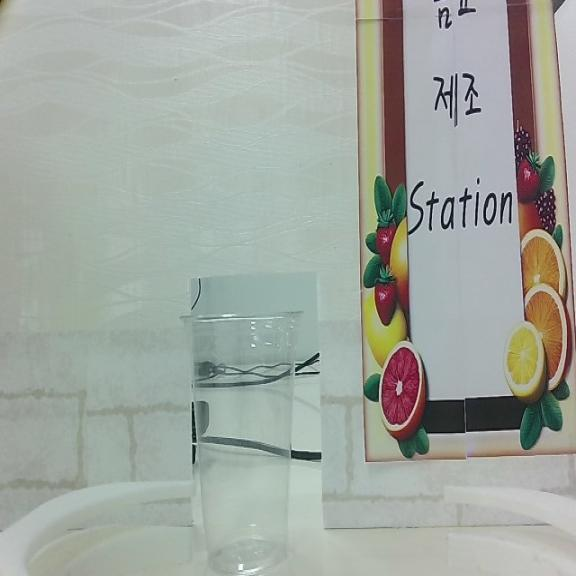Plastik: (182, 311, 301, 576)
